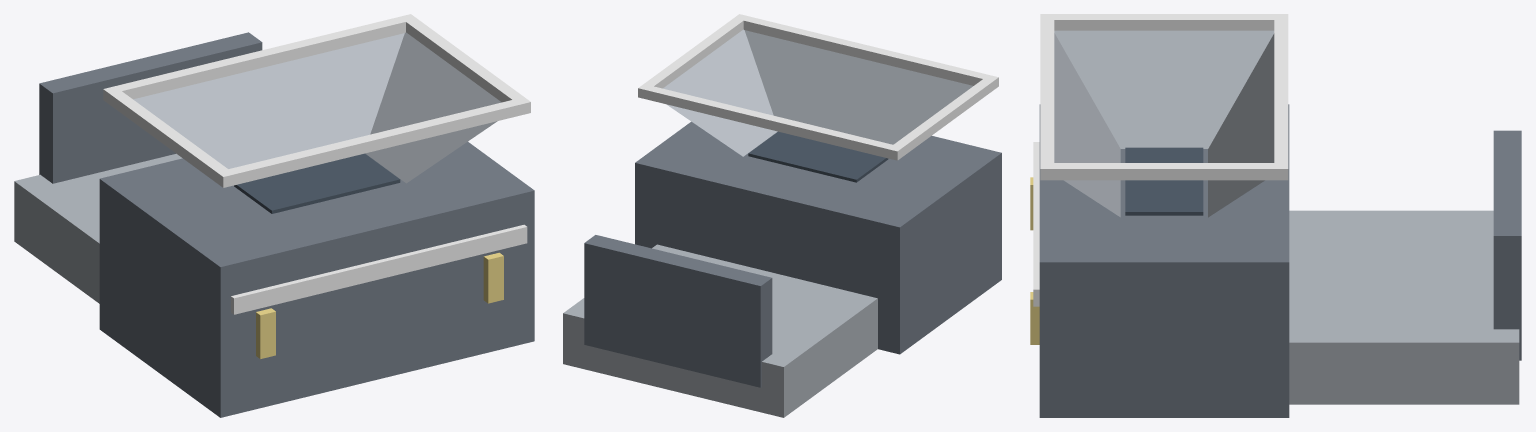
Rendered from tolva_equipo.glb.
3 views of the same model, side by side, from view 1: azimuth 30°, elevation 25°; view 2: azimuth 150°, elevation 25°; view 3: azimuth 270°, elevation 25° (orthographic). The views are drawn at different scales.
Visible parts, largest first — view 1: tolva_equipo; view 2: tolva_equipo; view 3: tolva_equipo.
Boxes of the visible parts, left/top/right/bottom form: tolva_equipo: left=14, top=14, right=534, bottom=417; tolva_equipo: left=563, top=14, right=1001, bottom=417; tolva_equipo: left=1030, top=14, right=1521, bottom=417.
Bounding box in the file's own units: 2.4 × 1.75 × 3.15.
